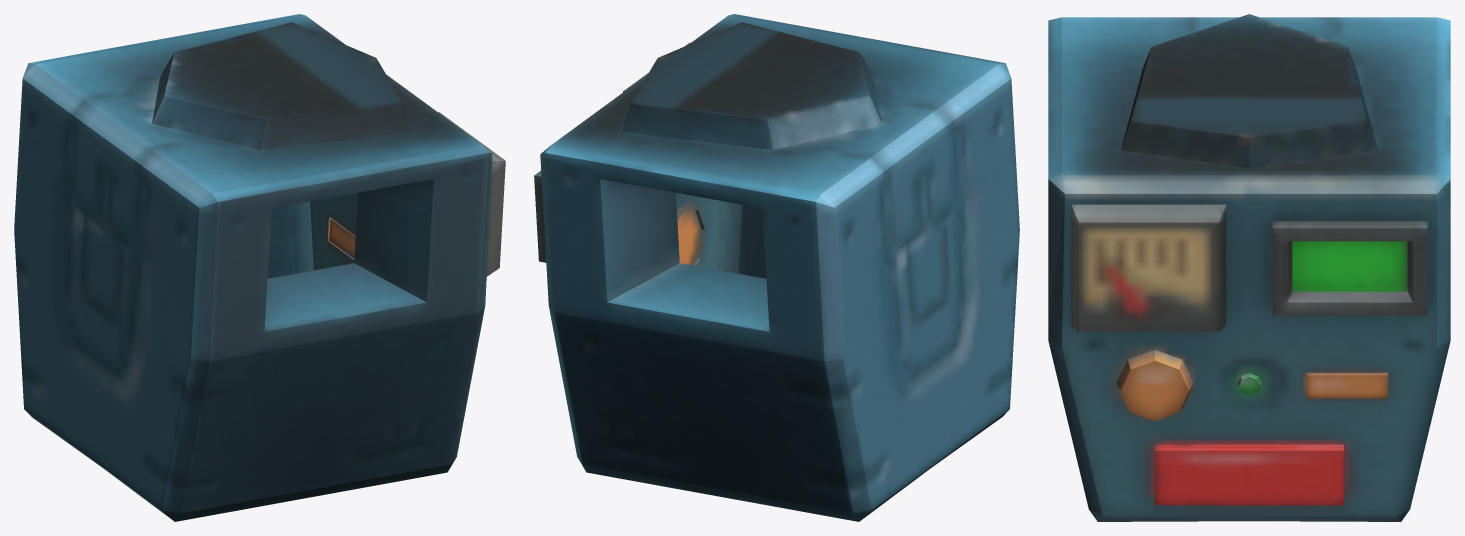
File: ROBOT BODY.fbx
3 views of the same model, side by side, from view 1: azimuth 30°, elevation 25°; view 2: azimuth 150°, elevation 25°; view 3: azimuth 270°, elevation 25° (orthographic). The views are drawn at different scales.
Visible parts, largest first — view 1: RobotBody; view 2: RobotBody; view 3: RobotBody.
Part boxes in pixels (left/top/right/bottom): RobotBody: left=14, top=14, right=505, bottom=521; RobotBody: left=534, top=14, right=1019, bottom=521; RobotBody: left=1048, top=14, right=1450, bottom=521.
Bounding box in the file's own units: 41.15 × 47.26 × 40.69.
